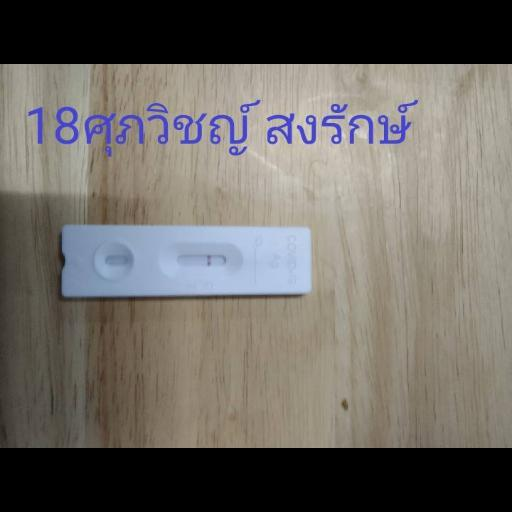Neg: (62, 225, 312, 295)
